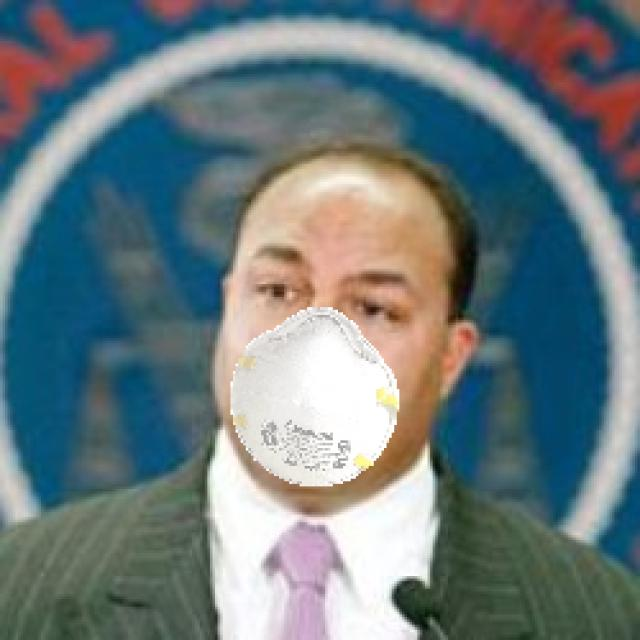mask: (227, 307, 398, 490)
